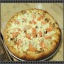pizza: (4, 7, 60, 56)
